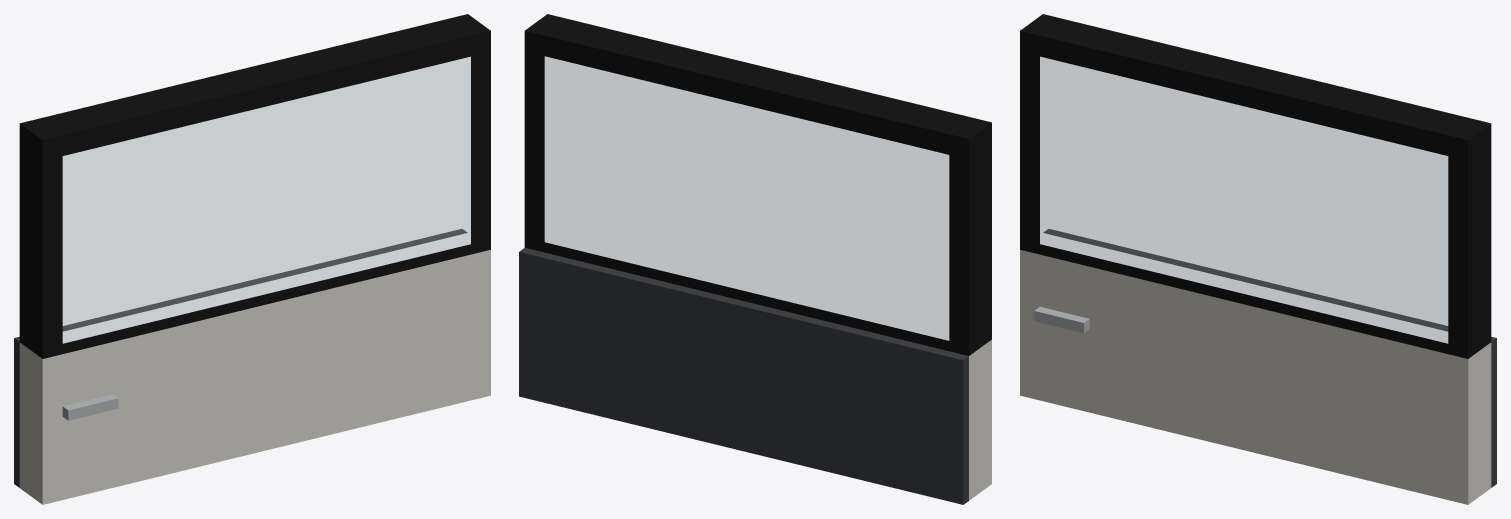
Rendered from hoist_door.glb.
The picture shows the model from 3 angles, left to right: view 1: azimuth 30°, elevation 25°; view 2: azimuth 150°, elevation 25°; view 3: azimuth 330°, elevation 25°; orthographic projection.
Parts seen in each view (by area): view 1: body:compound; view 2: body:compound; view 3: body:compound.
Part boxes in pixels (bbox=[...]): body:compound: bbox=[14, 14, 490, 504]; body:compound: bbox=[519, 14, 991, 504]; body:compound: bbox=[1020, 14, 1496, 504].
Bounding box in the file's own units: 1.41 × 1.09 × 0.1875.
